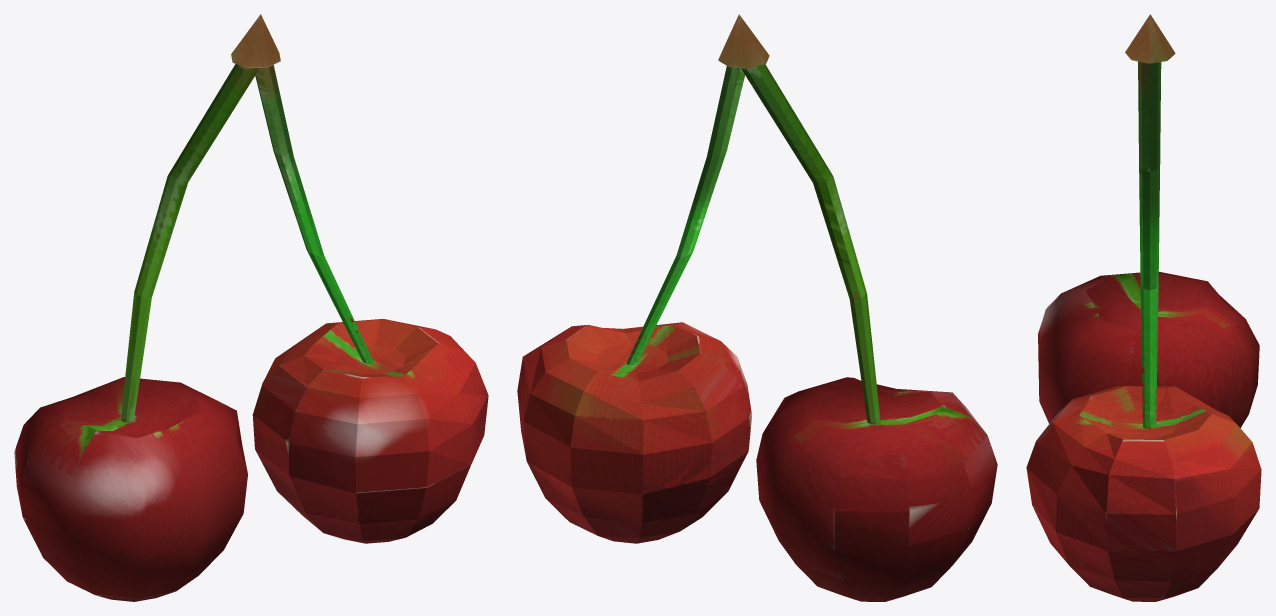
File: fsc32B.obj
3 views of the same model, side by side, from view 1: azimuth 30°, elevation 25°; view 2: azimuth 150°, elevation 25°; view 3: azimuth 270°, elevation 25° (orthographic). The views are drawn at different scales.
Visible parts, largest first — view 1: edges; view 2: edges; view 3: edges.
Boxes of the visible parts, x1,y1,x2,y2 form: edges: (14, 14, 488, 601); edges: (517, 14, 997, 601); edges: (1026, 14, 1261, 601).
Bounding box in the file's own units: 3.76 × 4.41 × 1.78.
Materials: 1 (1 with a texture image).
